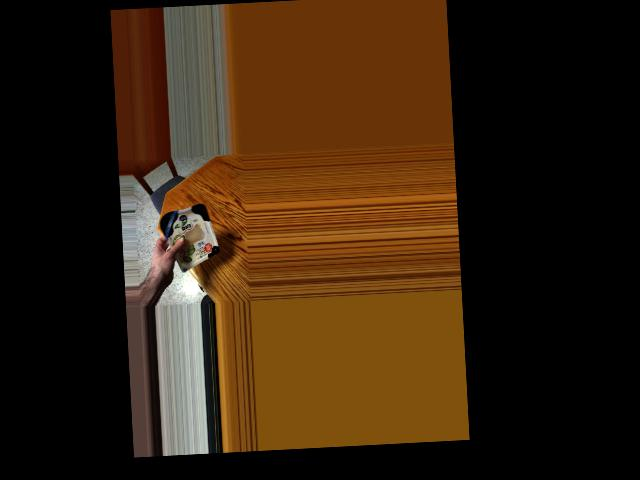cheese: (157, 201, 219, 263)
